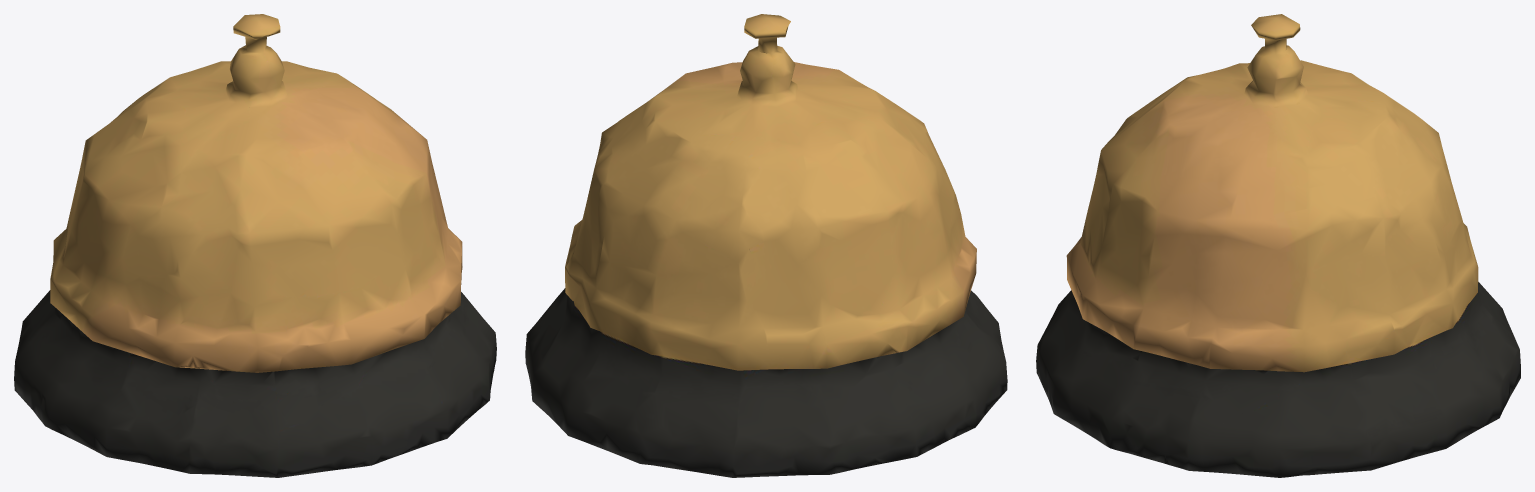
Rendered from golden+bell.obj.
The picture shows the model from 3 angles, left to right: view 1: azimuth 30°, elevation 25°; view 2: azimuth 150°, elevation 25°; view 3: azimuth 270°, elevation 25°; orthographic projection.
Visible parts, largest first — view 1: meshes[0]; view 2: meshes[0]; view 3: meshes[0].
Part boxes in pixels (x1,y1,x2,y2): meshes[0]: [14, 14, 496, 477]; meshes[0]: [525, 14, 1007, 477]; meshes[0]: [1036, 14, 1520, 477].
Size of the model in its own units: 0.9996 by 0.8132 by 1.
1 material, 1 textured.
